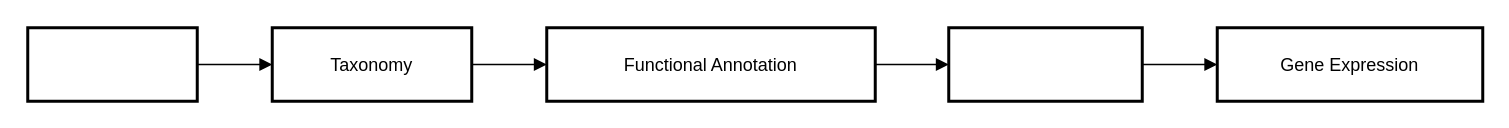
Image size: 1509x128. Some labels were removed from this diagram. Here are the shapes that lost their labels. From the top down, the centre of each, then its label:
At (112,64): "Species".
At (1044,64): "Genomics".
